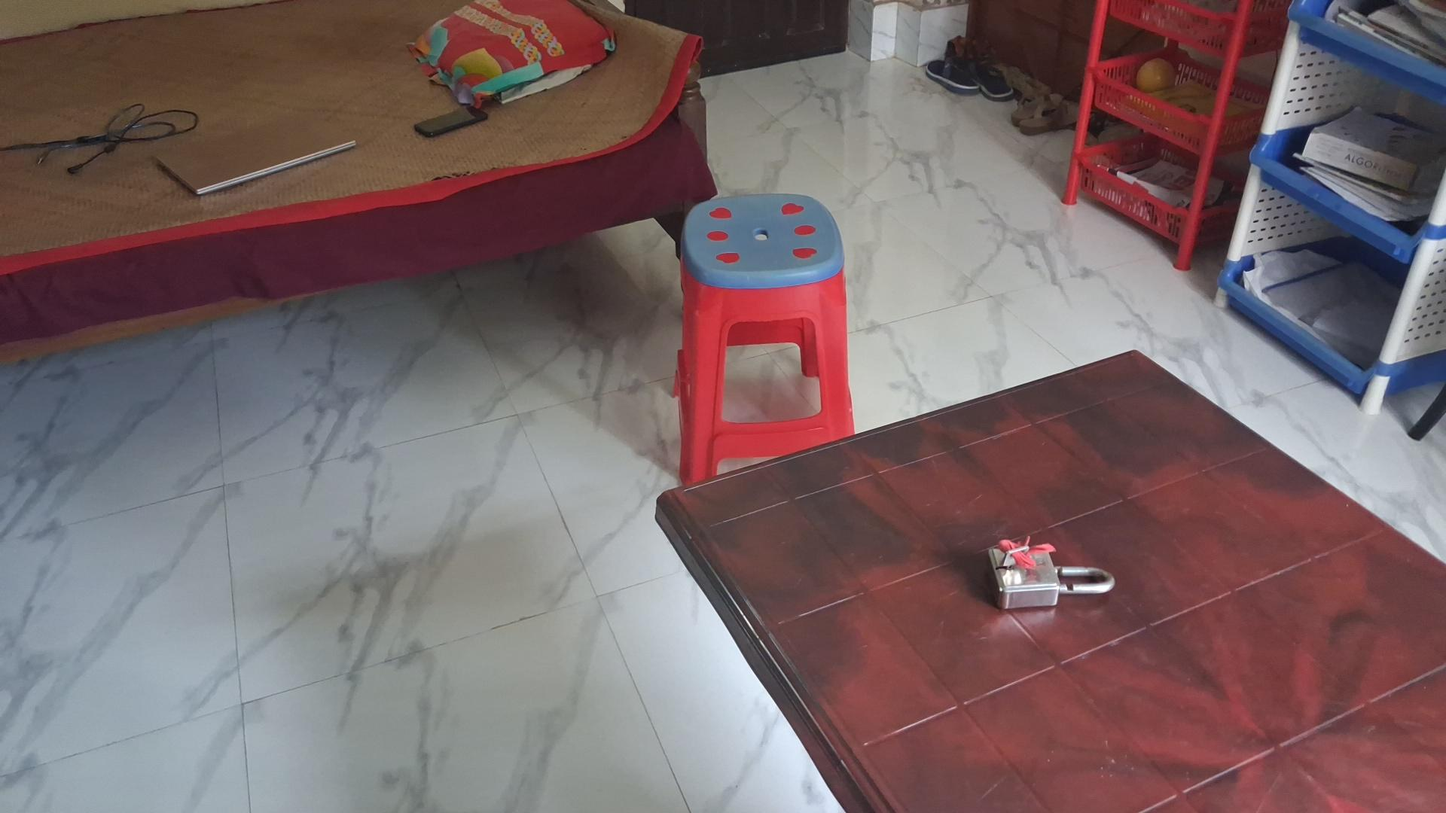Book: (1304, 104, 1441, 187)
Footwear: (927, 59, 1013, 103), (1010, 89, 1080, 135)
Laptop: (159, 104, 356, 194)
Lock: (984, 537, 1111, 617)
Phone: (415, 100, 487, 139)
Pillow: (413, 0, 615, 108)
Rack: (1217, 0, 1446, 426), (1063, 0, 1279, 271)
Stool: (674, 192, 856, 487)
Table: (656, 347, 1446, 813)
